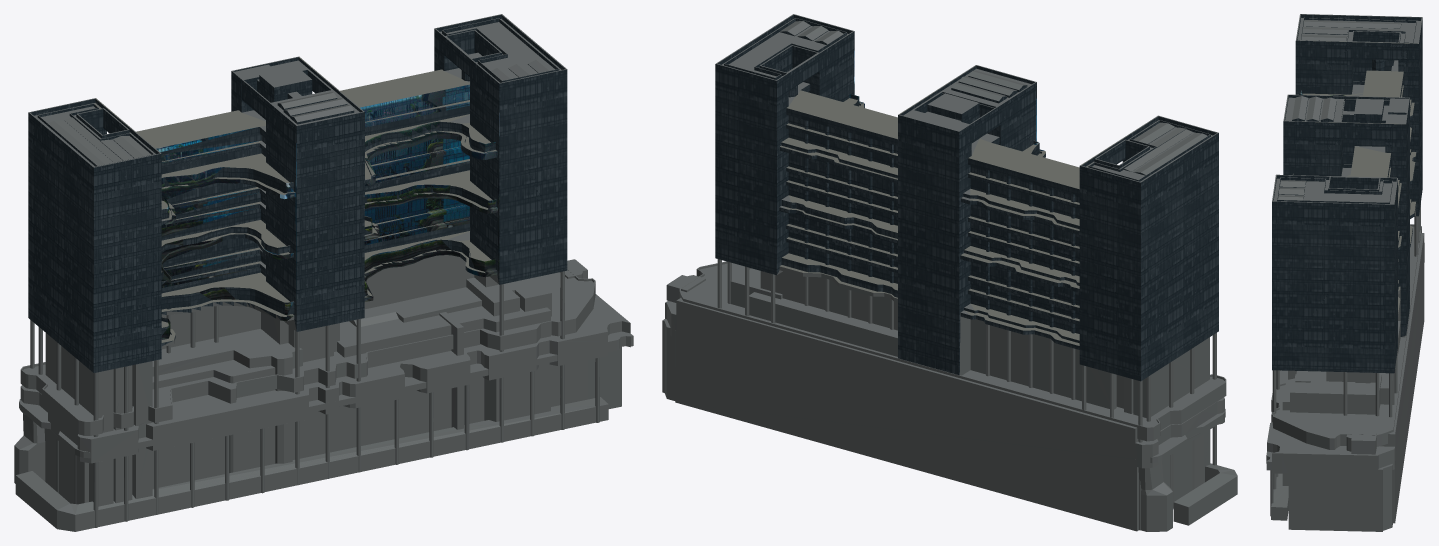
3 views of the same model, side by side, from view 1: azimuth 30°, elevation 25°; view 2: azimuth 150°, elevation 25°; view 3: azimuth 270°, elevation 25° (orthographic). The views are drawn at different scales.
Parts seen in each view (by area): view 1: PARKROYAL ON PICKERING; view 2: PARKROYAL ON PICKERING; view 3: PARKROYAL ON PICKERING.
Boxes of the visible parts, x1,y1,x2,y2 form: PARKROYAL ON PICKERING: (14, 14, 633, 531); PARKROYAL ON PICKERING: (662, 14, 1237, 531); PARKROYAL ON PICKERING: (1266, 14, 1424, 531).
Size of the model in its own units: 144 by 90.52 by 42.46.
4 materials, 2 textured.
